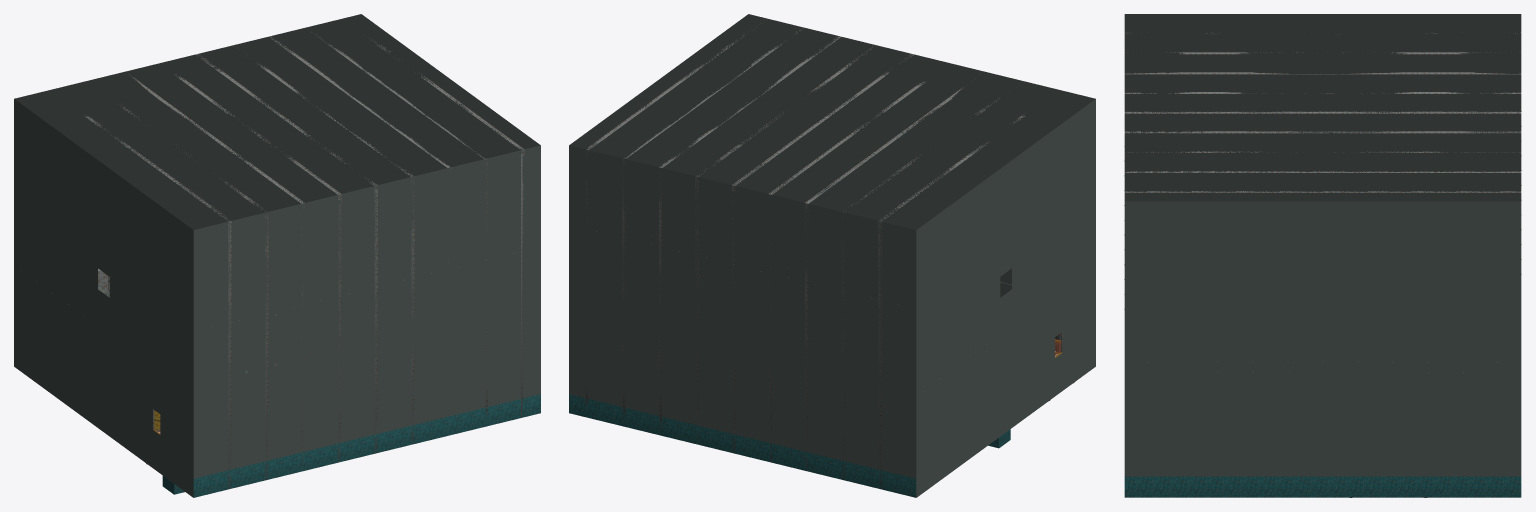
The model's file is inseguimento_A_struttura.glb.
3 renders of one model, left to right at view 1: azimuth 30°, elevation 25°; view 2: azimuth 150°, elevation 25°; view 3: azimuth 270°, elevation 25°, orthographic. The views are drawn at different scales.
Parts seen in each view (by area): view 1: ins_A_struttura; view 2: ins_A_struttura; view 3: ins_A_struttura.
Boxes of the visible parts, bbox=[...] form: ins_A_struttura: bbox=[14, 14, 540, 497]; ins_A_struttura: bbox=[569, 14, 1095, 497]; ins_A_struttura: bbox=[1124, 14, 1521, 497].
Size of the model in its own units: 38.12 by 32.5 by 34.06.
19 materials, 12 textured.
